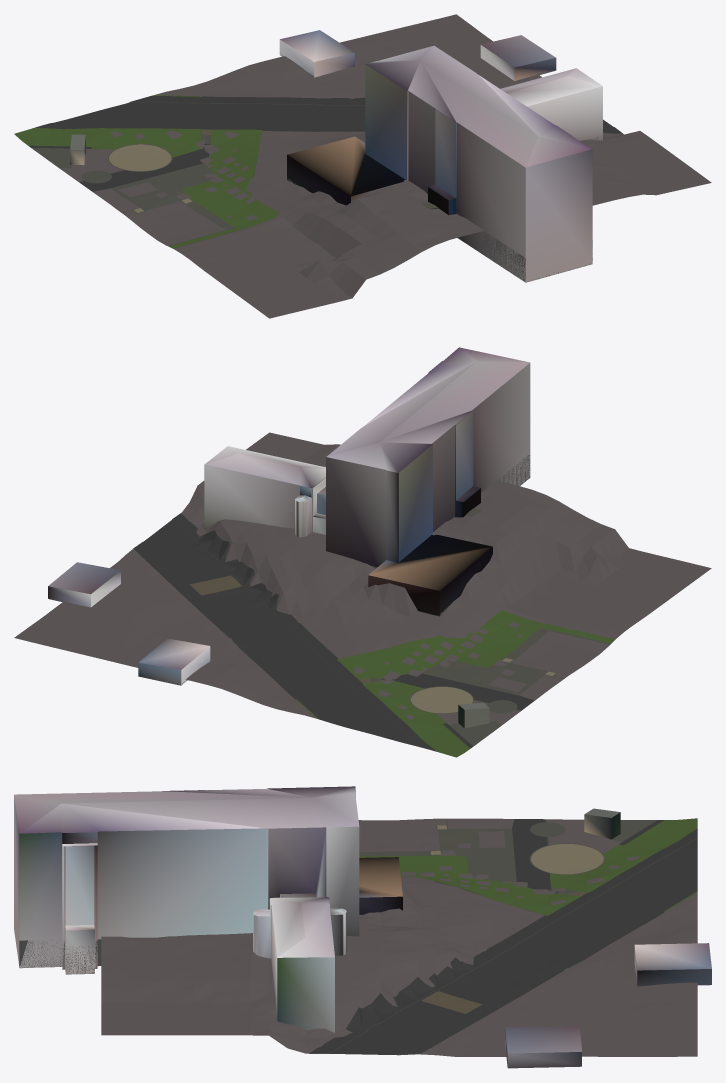
The picture shows the model from 3 angles, top to bottom: view 1: azimuth 30°, elevation 25°; view 2: azimuth 150°, elevation 25°; view 3: azimuth 270°, elevation 25°; orthographic projection. The views are drawn at different scales.
Parts seen in each view (by area): view 1: c_m01_m17; view 2: c_m01_m17; view 3: c_m01_m17.
Part boxes in pixels (<box>): c_m01_m17: <box>14,14,711,318</box>; c_m01_m17: <box>14,347,711,757</box>; c_m01_m17: <box>14,786,711,1068</box>.
Size of the model in its own units: 133 by 38.08 by 150.
